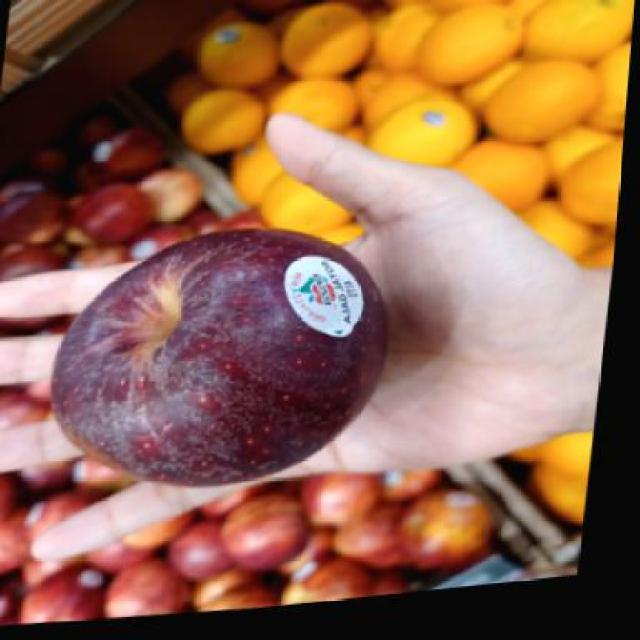Fresh Apple: (46, 219, 386, 475)
